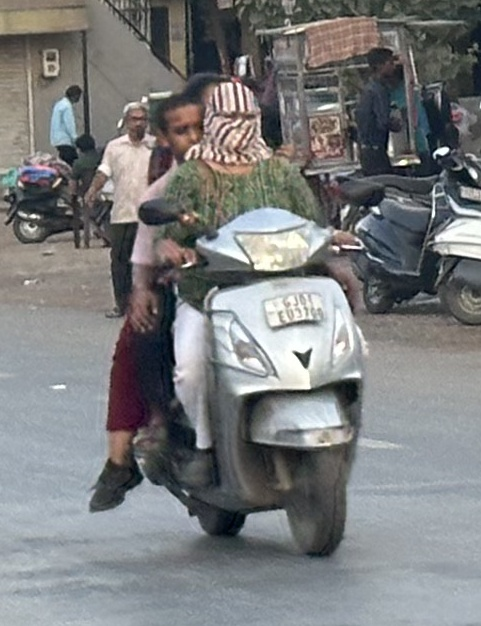BikeWithRider: (81, 66, 378, 564)
NoHelmet: (189, 77, 275, 165), (150, 88, 212, 165), (177, 67, 230, 111)
